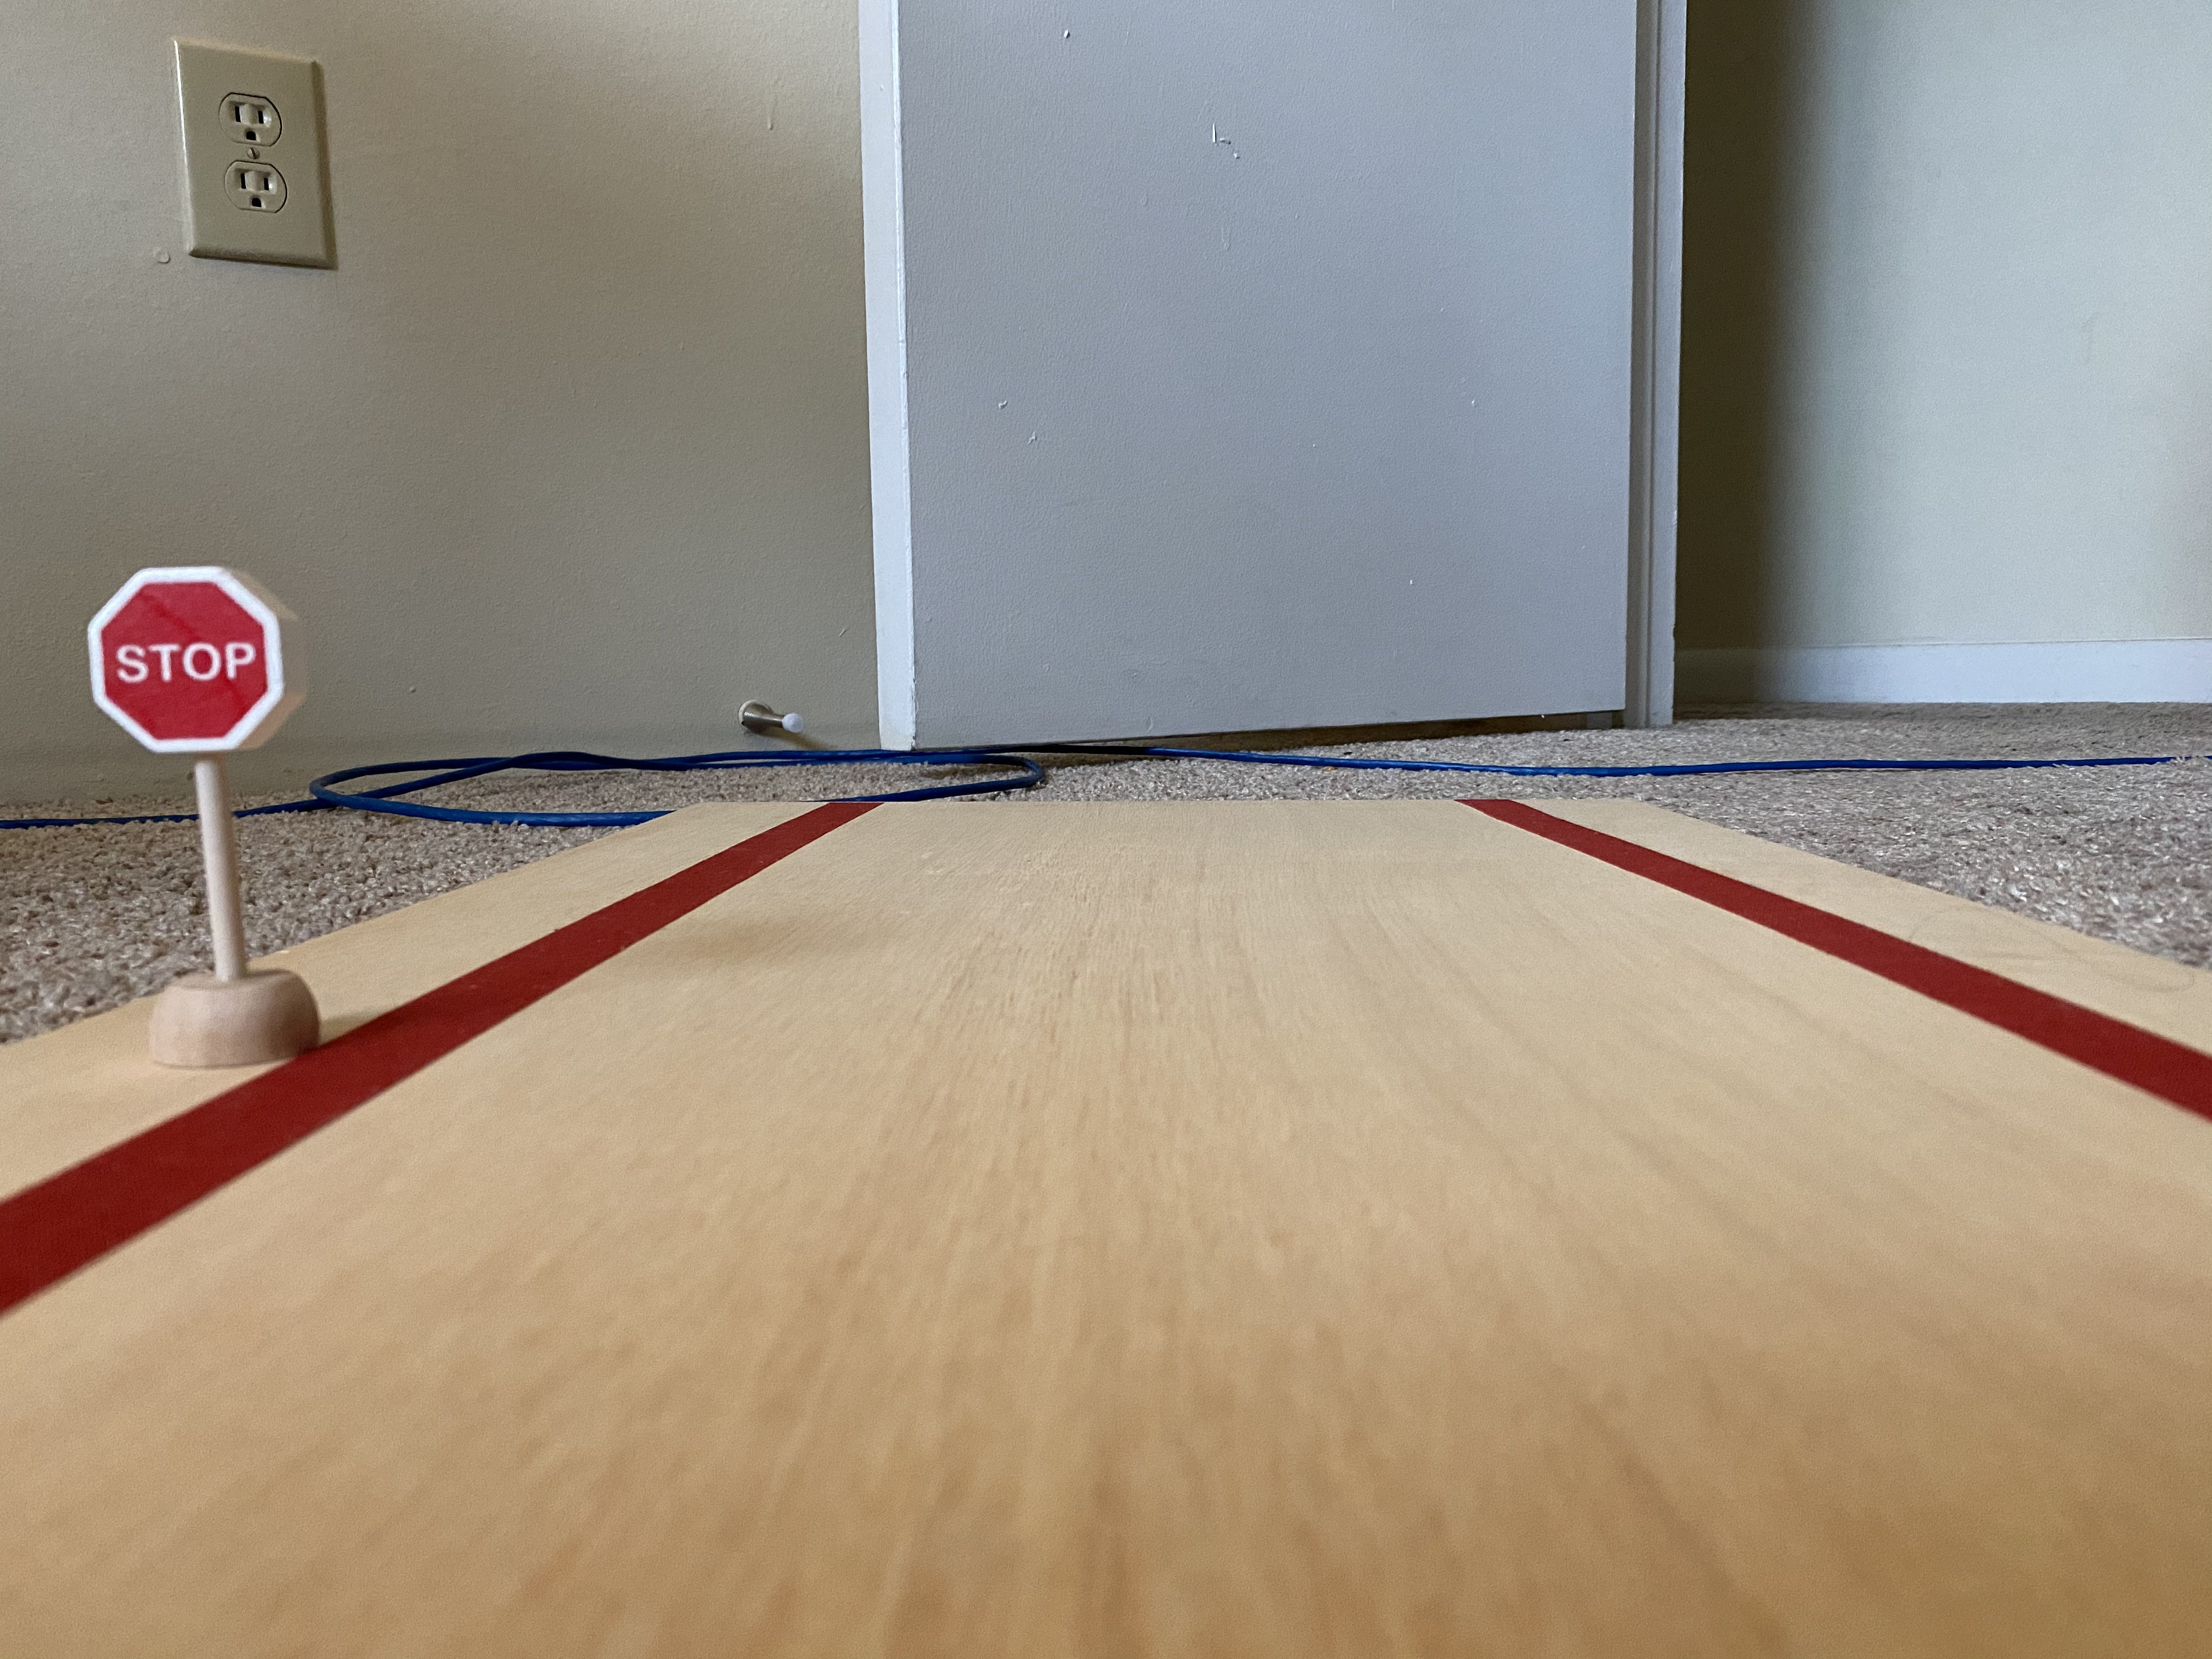Stop Sign: (59, 545, 310, 770)
